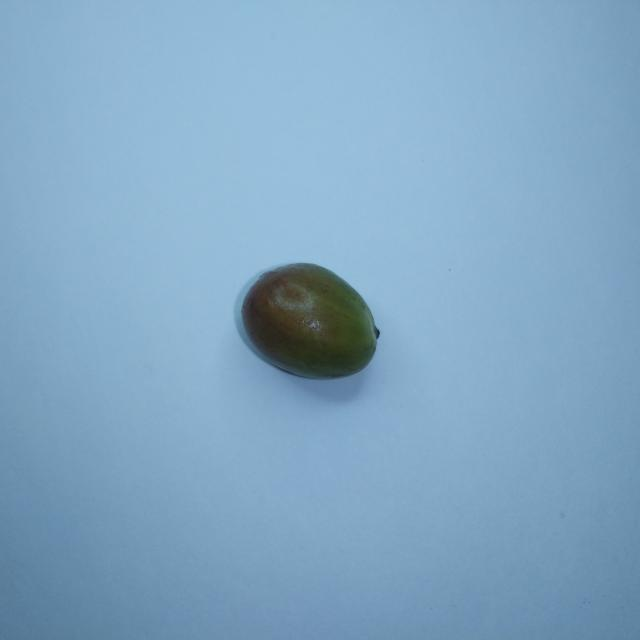Sano: (237, 263, 379, 378)
